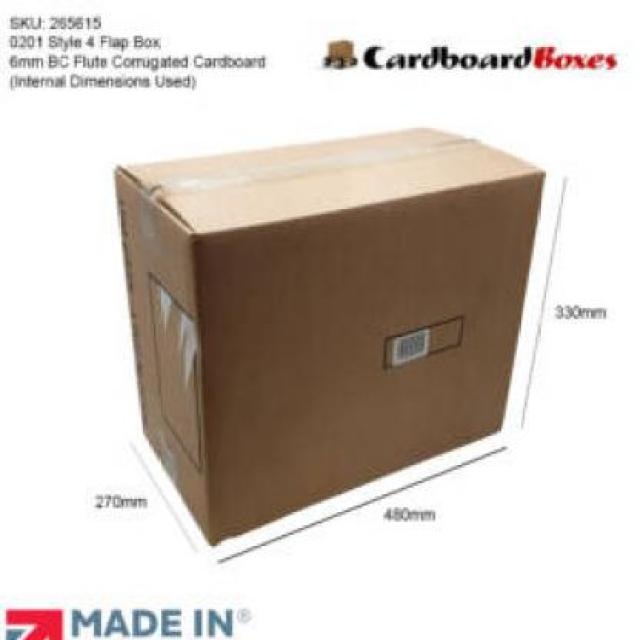box: (85, 121, 584, 604)
